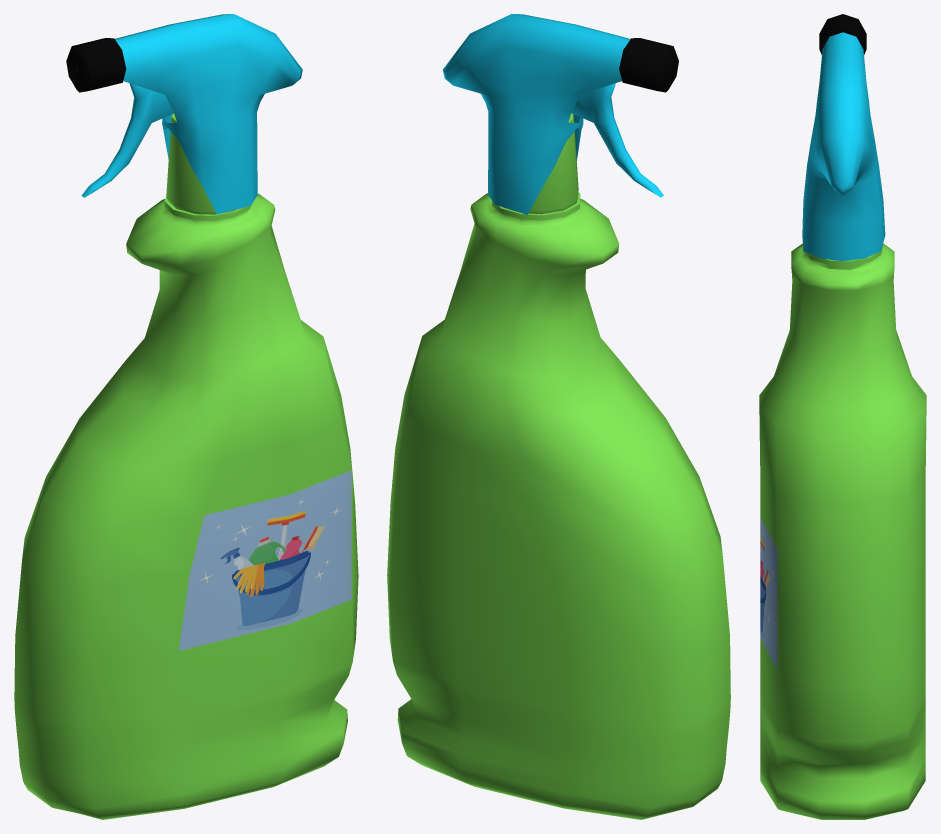
Rendered from Bote de limpieza.fbx.
The picture shows the model from 3 angles, left to right: view 1: azimuth 30°, elevation 25°; view 2: azimuth 150°, elevation 25°; view 3: azimuth 270°, elevation 25°; orthographic projection. The views are drawn at different scales.
Parts seen in each view (by area): view 1: Bote de limpieza; view 2: Bote de limpieza; view 3: Bote de limpieza.
Boxes of the visible parts, x1,y1,x2,y2 form: Bote de limpieza: [14, 14, 358, 819]; Bote de limpieza: [387, 14, 730, 819]; Bote de limpieza: [759, 14, 926, 819].
Bounding box in the file's own units: 13.37 × 29.89 × 6.46.
4 materials, 1 textured.
